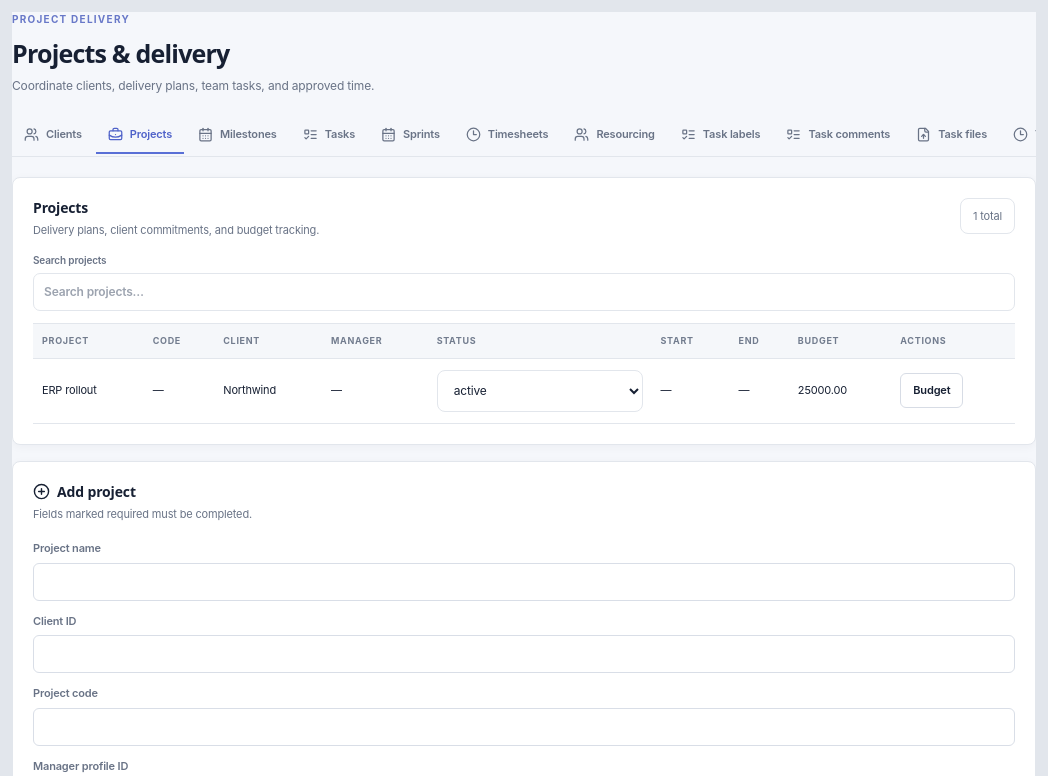
Test case: ProjectsPage › loads project records and shows an empty state
Expected: the text "ERP rollout" is shown, [33, 358, 144, 424]
Expected: the text "Northwind" is shown, [214, 358, 322, 424]
Click the tab "Clients": (53, 135) [12, 117, 94, 154]
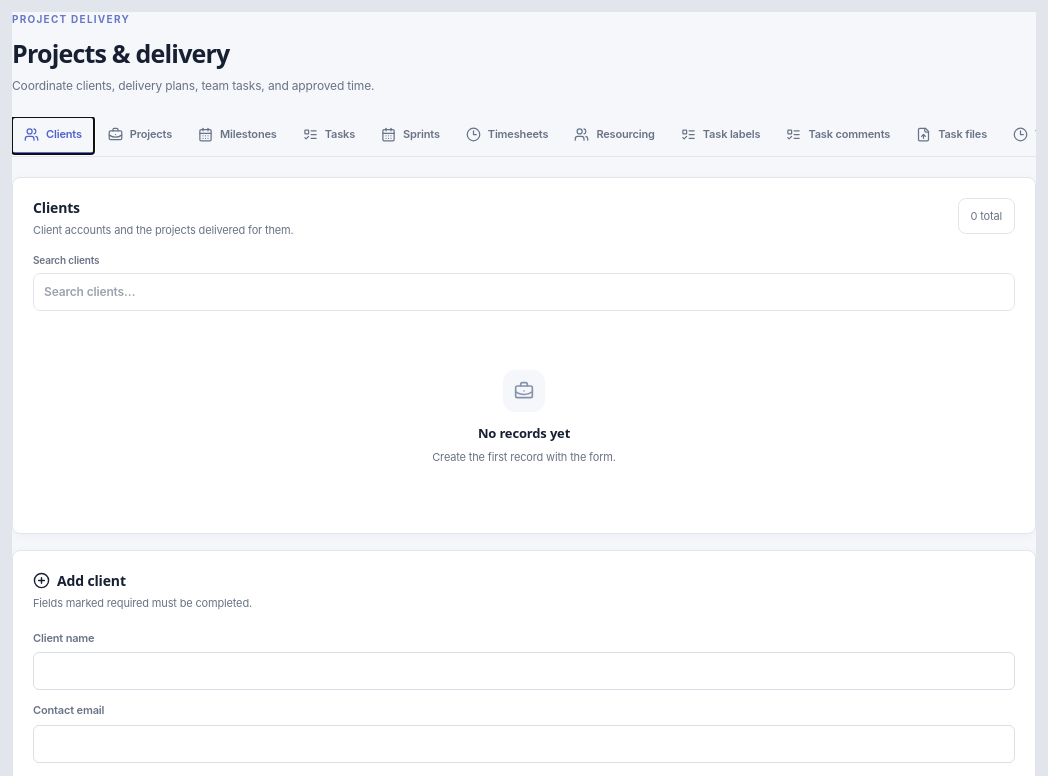
Now the text "No records yet" is shown, box [478, 424, 570, 442]
